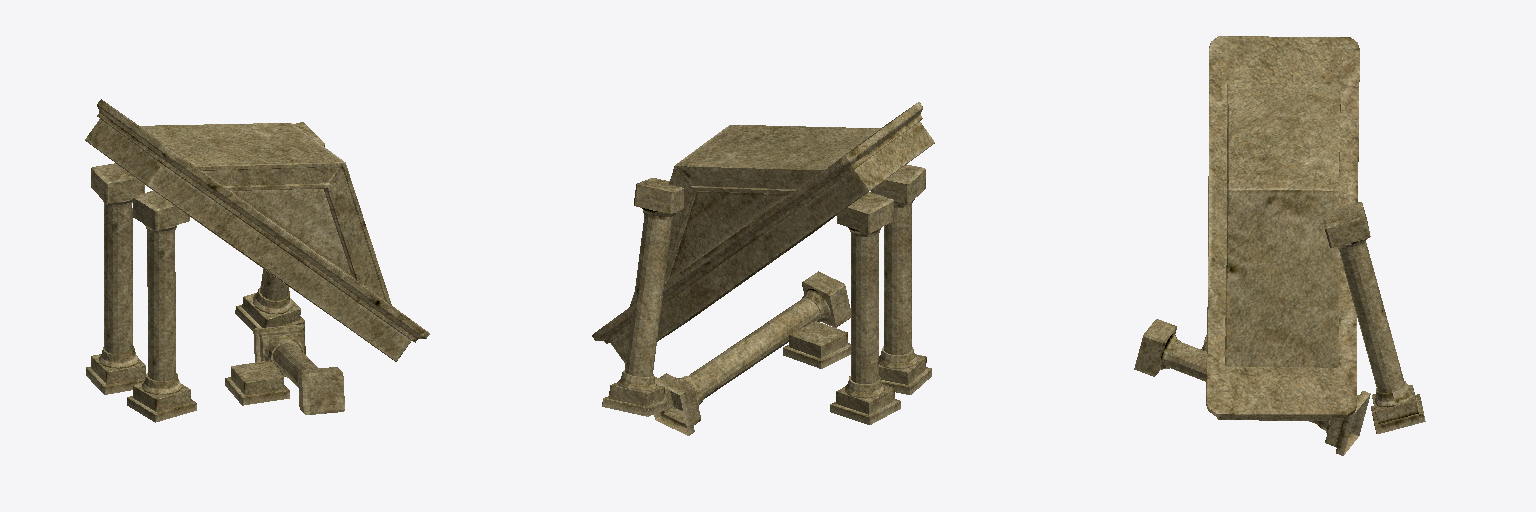
3 views of the same model, side by side, from view 1: azimuth 30°, elevation 25°; view 2: azimuth 150°, elevation 25°; view 3: azimuth 270°, elevation 25° (orthographic).
Parts seen in each view (by area): view 1: Object01, 00D4_zlib_01, 00D4_zlib_02, 00D4_zlib_03, 00D4_zlib_04, 00D4_zlib_05; view 2: Object01, 00D4_zlib_04, 00D4_zlib_02, 00D4_zlib_03, 00D4_zlib_01, 00D4_zlib_05; view 3: Object01, 00D4_zlib_04, 00D4_zlib_03.
Boxes of the visible parts, x1=… form: Object01: x1=85, y1=99, x2=429, y2=361; 00D4_zlib_01: x1=127, y1=191, x2=196, y2=422; 00D4_zlib_02: x1=86, y1=163, x2=145, y2=394; 00D4_zlib_03: x1=253, y1=324, x2=344, y2=414; 00D4_zlib_04: x1=235, y1=122, x2=324, y2=330; 00D4_zlib_05: x1=225, y1=360, x2=289, y2=405; Object01: x1=592, y1=102, x2=934, y2=363; 00D4_zlib_04: x1=602, y1=178, x2=683, y2=416; 00D4_zlib_02: x1=830, y1=192, x2=900, y2=424; 00D4_zlib_03: x1=654, y1=271, x2=850, y2=435; 00D4_zlib_01: x1=871, y1=164, x2=931, y2=394; 00D4_zlib_05: x1=783, y1=321, x2=850, y2=368; Object01: x1=1206, y1=36, x2=1359, y2=420; 00D4_zlib_04: x1=1323, y1=202, x2=1425, y2=433; 00D4_zlib_03: x1=1134, y1=319, x2=1370, y2=455.
Size of the model in its own units: 478 by 516 by 424.
Materials: 1 (1 with a texture image).